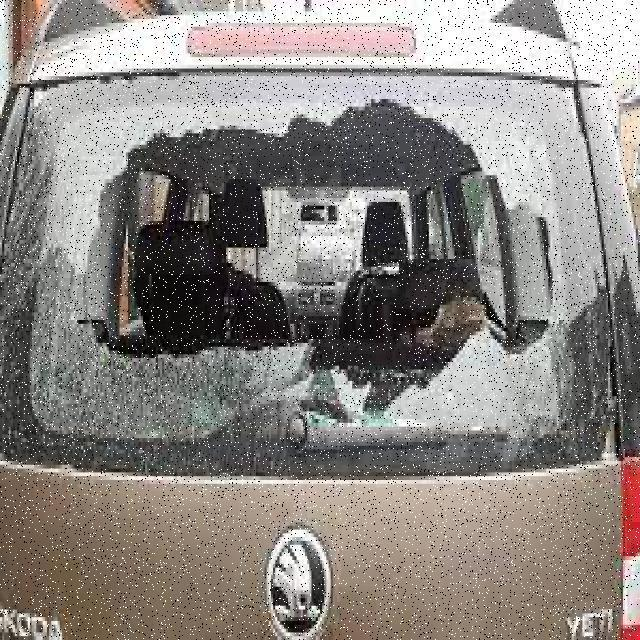Rear-windscreen-Damage: (19, 26, 610, 564)
